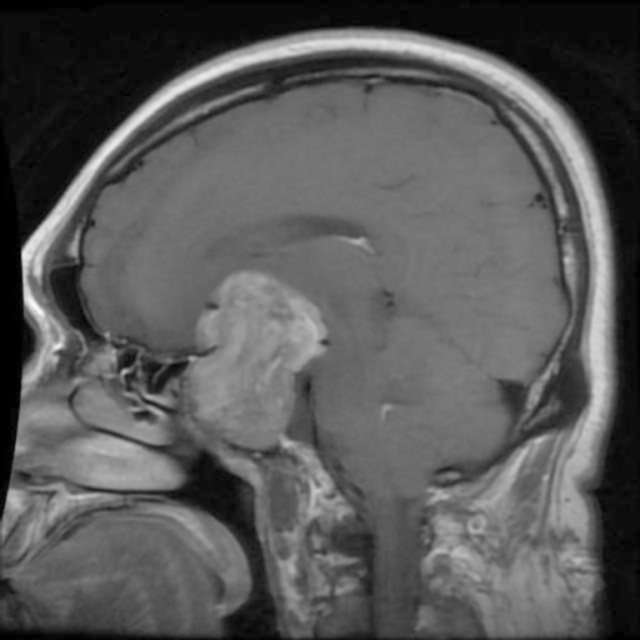no tumor: (188, 270, 324, 449)
